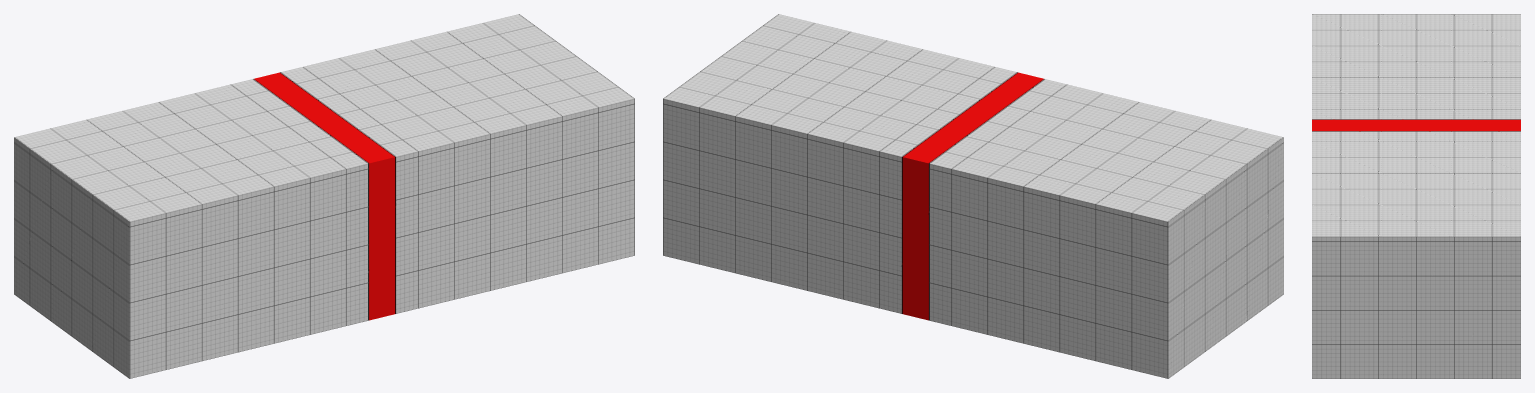
Rendered from TrainingRoom.fbx.
3 views of the same model, side by side, from view 1: azimuth 30°, elevation 25°; view 2: azimuth 150°, elevation 25°; view 3: azimuth 270°, elevation 25° (orthographic). The views are drawn at different scales.
Parts seen in each view (by area): view 1: Object001; view 2: Object001; view 3: Object001.
Part boxes in pixels (x1,y1,x2,y2): Object001: (14, 14, 634, 378); Object001: (663, 14, 1283, 378); Object001: (1312, 14, 1520, 378).
Bounding box in the file's own units: 20.2 × 6 × 8.
Materials: 2 (2 with a texture image).
